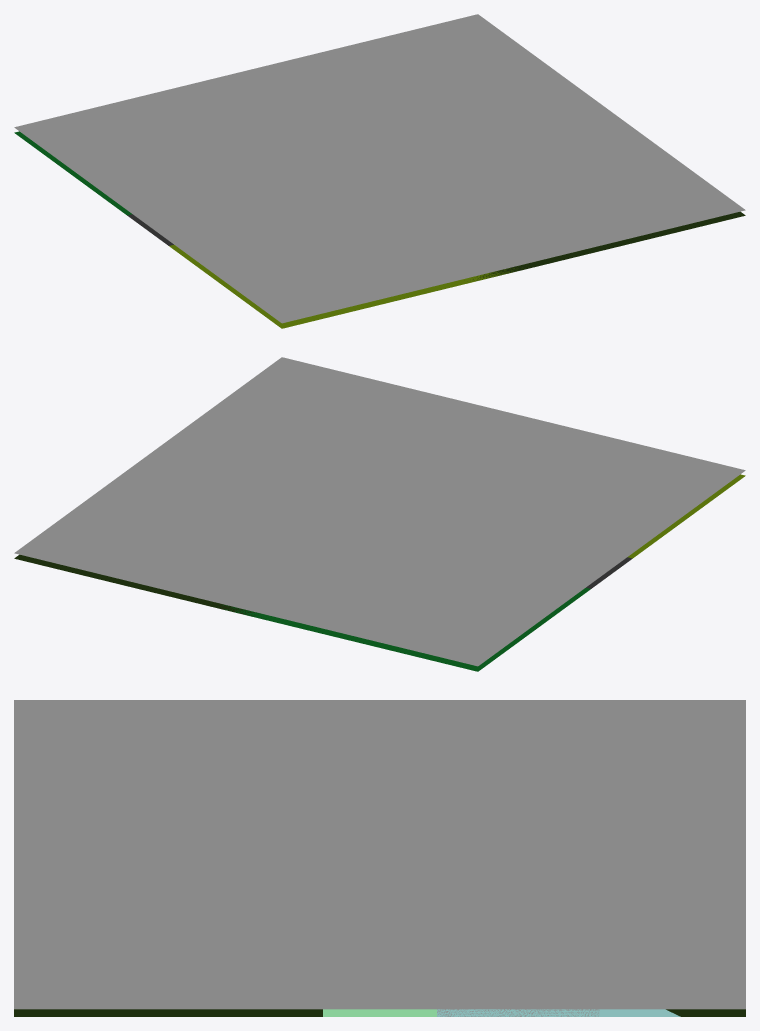
Rendered from RT LINE V01 T06 SNAP.FBX.
The picture shows the model from 3 angles, top to bottom: view 1: azimuth 30°, elevation 25°; view 2: azimuth 150°, elevation 25°; view 3: azimuth 270°, elevation 25°; orthographic projection. The views are drawn at different scales.
Visible parts, largest first — view 1: RT LINE V01 T06 SNAP, RT LINE V01 NAV Grass.Conc, RT LINE V01 T06, RT LINE V01 NAV Grass; view 2: RT LINE V01 T06 SNAP, RT LINE V01 NAV Grass, RT LINE V01 T06, RT LINE V01 NAV Grass.Conc; view 3: RT LINE V01 T06 SNAP, RT LINE V01 T06, RT LINE V01 T06 NoGrass.
Boxes of the visible parts, x1,y1,x2,y2 form: RT LINE V01 T06 SNAP: [14, 14, 745, 323]; RT LINE V01 NAV Grass.Conc: [169, 245, 515, 328]; RT LINE V01 T06: [473, 211, 745, 280]; RT LINE V01 NAV Grass: [14, 131, 132, 215]; RT LINE V01 T06 SNAP: [14, 357, 745, 666]; RT LINE V01 NAV Grass: [211, 588, 590, 671]; RT LINE V01 T06: [14, 554, 264, 618]; RT LINE V01 NAV Grass.Conc: [627, 474, 745, 558]; RT LINE V01 T06 SNAP: [14, 700, 745, 1009]; RT LINE V01 T06: [14, 1009, 745, 1016]; RT LINE V01 T06 NoGrass: [323, 1009, 599, 1016].
Size of the model in its own units: 90 by 1 by 90.
